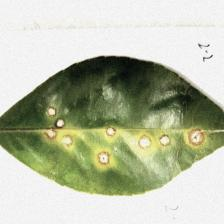canker: (27, 99, 209, 165)
